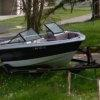Boat: (1, 22, 85, 81)
